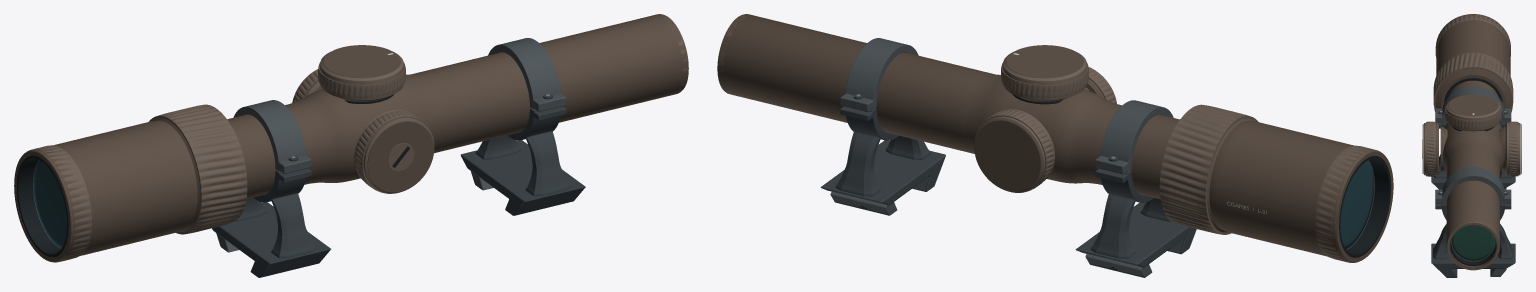
File: L01_LowPower_Variable_Legacy_K1_Rail_Top.glb
3 renders of one model, left to right at view 1: azimuth 30°, elevation 25°; view 2: azimuth 150°, elevation 25°; view 3: azimuth 270°, elevation 25°, orthographic. The views are drawn at different scales.
Visible parts, largest first — view 1: 01 MAIN SHELL | continuous quiet tube and rounded shoulders, 07 WIDE REAR GRIP | diagonal recessed bands, 10.0 LOCAL BASE | independent front crown and fixed return, 10.1 LOCAL BASE | independent rear crown and fixed return, 06 SIDE FACE -1, 08.1 RING UPPER, 08.0 RING UPPER, 07 NARROW OCULAR GRIP, 05 TOP FACE | quiet disk, 02 REAR INNER | dark edge, 04 REAR VISUAL PANE, 09.1.-1 CURVED INTEGRAL FORK (+13 smaller); view 2: 01 MAIN SHELL | continuous quiet tube and rounded shoulders, 07 WIDE REAR GRIP | diagonal recessed bands, 06 SIDE FACE 1, 10.0 LOCAL BASE | independent front crown and fixed return, 10.1 LOCAL BASE | independent rear crown and fixed return, 08.1 RING UPPER, 08.0 RING UPPER, 07 NARROW OCULAR GRIP, 05 TOP FACE | quiet disk, 02 REAR INNER | dark edge, 04 REAR VISUAL PANE, 09.0.1 CURVED INTEGRAL FORK (+14 smaller); view 3: 01 MAIN SHELL | continuous quiet tube and rounded shoulders, 07 WIDE REAR GRIP | diagonal recessed bands, 04 FRONT VISUAL PANE, 07 GRIP ROUND SHOULDERS, 08.0 RING UPPER, 05 TOP FACE | quiet disk, 10.0 LOCAL BASE | independent front crown and fixed return, 06 SIDE GRIP 1, 05 TOP CAP | shallow diamond valleys, 06 SIDE GRIP -1, 08.1 RING UPPER, 07 NARROW OCULAR GRIP (+20 smaller).
Part boxes in pixels (x1=…): 01 MAIN SHELL | continuous quiet tube and rounded shoulders: x1=14, y1=14, x2=688, y2=262; 07 WIDE REAR GRIP | diagonal recessed bands: x1=149, y1=104, x2=247, y2=234; 10.0 LOCAL BASE | independent front crown and fixed return: x1=460, y1=140, x2=585, y2=215; 10.1 LOCAL BASE | independent rear crown and fixed return: x1=212, y1=202, x2=331, y2=277; 06 SIDE FACE -1: x1=367, y1=121, x2=433, y2=192; 08.1 RING UPPER: x1=233, y1=100, x2=306, y2=171; 08.0 RING UPPER: x1=488, y1=38, x2=560, y2=109; 07 NARROW OCULAR GRIP: x1=23, y1=145, x2=91, y2=262; 05 TOP FACE | quiet disk: x1=323, y1=45, x2=400, y2=78; 02 REAR INNER | dark edge: x1=16, y1=155, x2=68, y2=257; 04 REAR VISUAL PANE: x1=33, y1=160, x2=66, y2=248; 09.1.-1 CURVED INTEGRAL FORK: x1=271, y1=193, x2=316, y2=258; 01 MAIN SHELL | continuous quiet tube and rounded shoulders: x1=718, y1=14, x2=1393, y2=262; 07 WIDE REAR GRIP | diagonal recessed bands: x1=1159, y1=104, x2=1258, y2=234; 06 SIDE FACE 1: x1=974, y1=120, x2=1041, y2=191; 10.0 LOCAL BASE | independent front crown and fixed return: x1=820, y1=140, x2=945, y2=205; 10.1 LOCAL BASE | independent rear crown and fixed return: x1=1075, y1=202, x2=1196, y2=267; 08.1 RING UPPER: x1=1100, y1=100, x2=1173, y2=171; 08.0 RING UPPER: x1=845, y1=38, x2=918, y2=109; 07 NARROW OCULAR GRIP: x1=1315, y1=145, x2=1382, y2=262; 05 TOP FACE | quiet disk: x1=1006, y1=45, x2=1083, y2=78; 02 REAR INNER | dark edge: x1=1339, y1=156, x2=1390, y2=257; 04 REAR VISUAL PANE: x1=1340, y1=161, x2=1373, y2=249; 09.0.1 CURVED INTEGRAL FORK: x1=835, y1=131, x2=880, y2=196; 01 MAIN SHELL | continuous quiet tube and rounded shoulders: x1=1436, y1=14, x2=1510, y2=268; 07 WIDE REAR GRIP | diagonal recessed bands: x1=1433, y1=52, x2=1513, y2=112; 04 FRONT VISUAL PANE: x1=1452, y1=225, x2=1494, y2=260; 07 GRIP ROUND SHOULDERS: x1=1435, y1=68, x2=1511, y2=108; 08.0 RING UPPER: x1=1441, y1=167, x2=1505, y2=204; 05 TOP FACE | quiet disk: x1=1448, y1=94, x2=1498, y2=116; 10.0 LOCAL BASE | independent front crown and fixed return: x1=1431, y1=243, x2=1515, y2=277; 06 SIDE GRIP 1: x1=1508, y1=121, x2=1518, y2=176; 05 TOP CAP | shallow diamond valleys: x1=1444, y1=106, x2=1501, y2=129; 06 SIDE GRIP -1: x1=1426, y1=121, x2=1435, y2=176; 08.1 RING UPPER: x1=1441, y1=86, x2=1505, y2=123; 07 NARROW OCULAR GRIP: x1=1435, y1=14, x2=1510, y2=57.
Size of the model in its own units: 0.3782 by 0.0994 by 0.0798.
